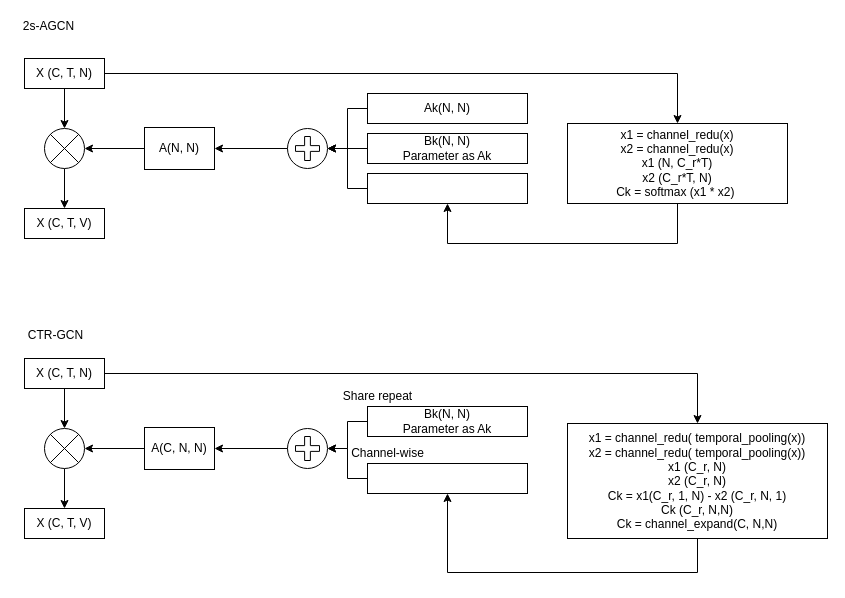
Image size: 845x598. Some labels were removed from this diagram. Each missing label, with the box of its shape:
Ck(C, N, N): (366, 462, 528, 494)
Ck(N, N): (366, 172, 528, 204)
